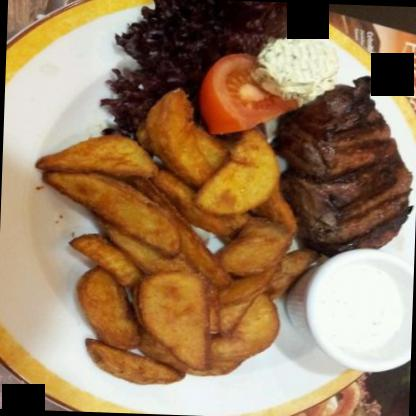yogurt: (310, 265, 399, 356)
